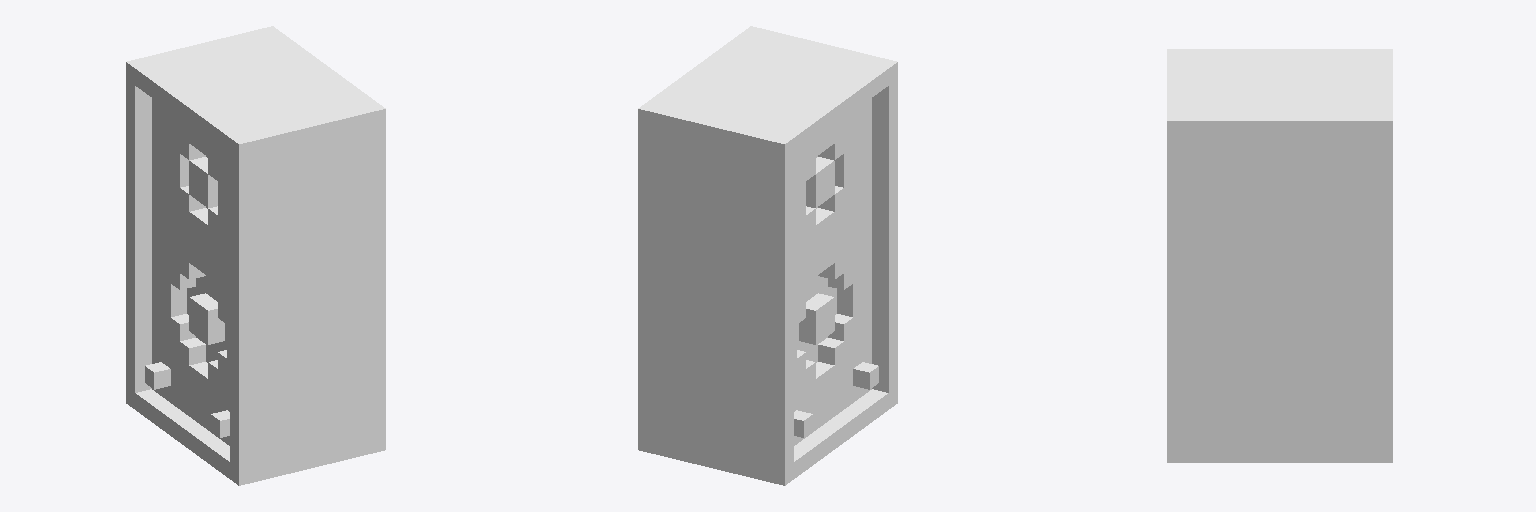
Rendered from Speaker.obj.
3 renders of one model, left to right at view 1: azimuth 30°, elevation 25°; view 2: azimuth 150°, elevation 25°; view 3: azimuth 270°, elevation 25°, orthographic.
Parts seen in each view (by area): view 1: object 1; view 2: object 1; view 3: object 1.
Part boxes in pixels (left/top/right/bottom): object 1: left=126, top=26, right=385, bottom=485; object 1: left=638, top=26, right=897, bottom=485; object 1: left=1167, top=49, right=1392, bottom=462.
Size of the model in its own units: 0.9 by 2 by 1.2.